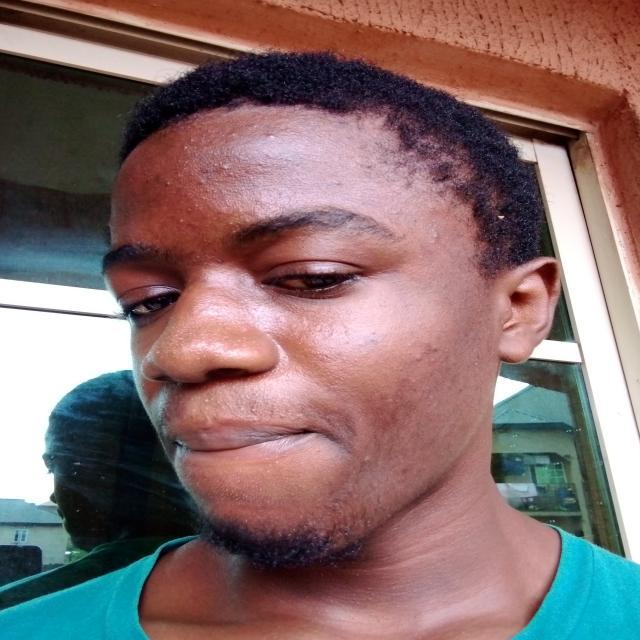Acne: (419, 333, 467, 388), (188, 388, 262, 423), (192, 150, 249, 192)
